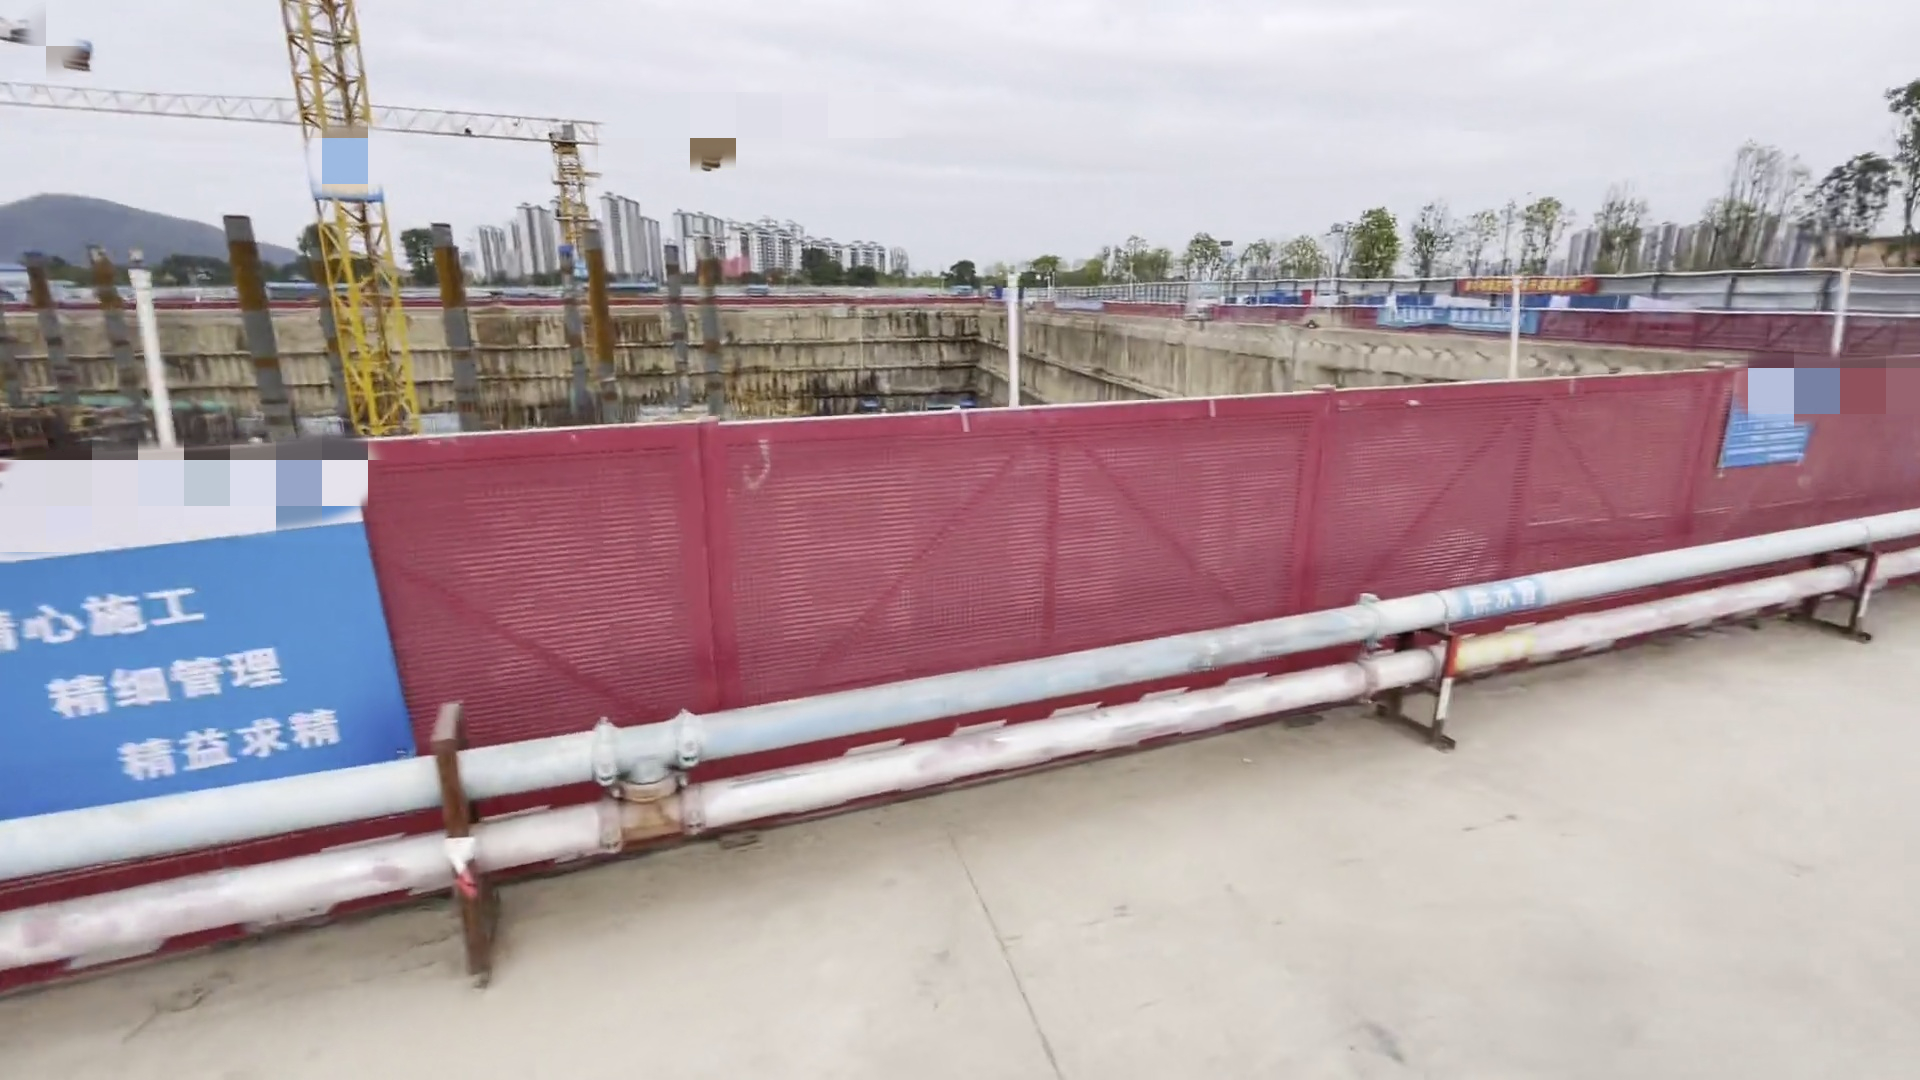fence: (1, 355, 1915, 815)
slogan: (1, 585, 382, 798), (1379, 301, 1534, 336), (1462, 269, 1593, 295)
